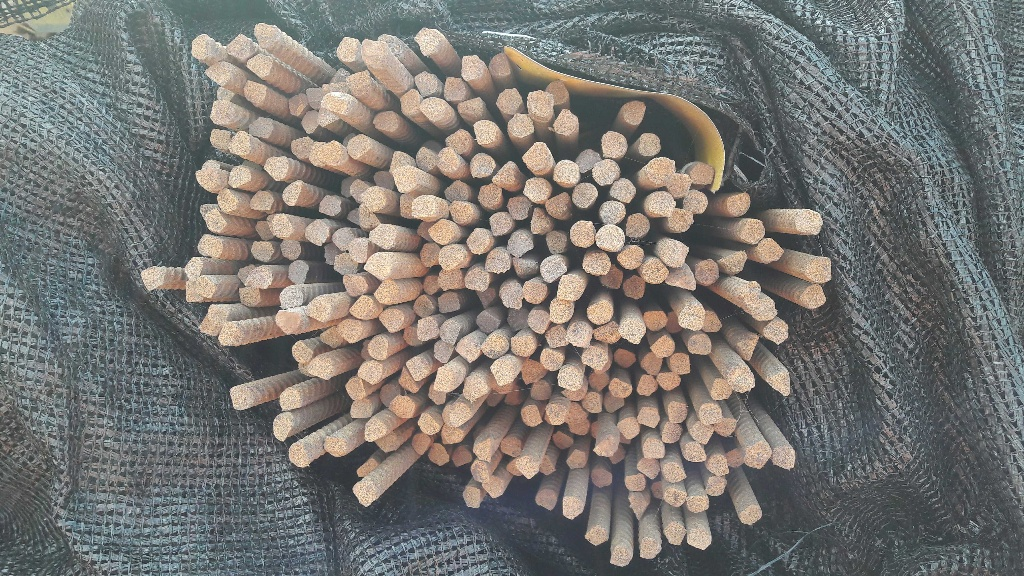dipstick: (642, 157, 675, 187), (521, 141, 551, 173), (792, 208, 824, 238), (657, 239, 690, 268), (525, 90, 555, 120), (746, 294, 778, 322), (796, 284, 829, 310), (666, 265, 697, 292), (359, 39, 387, 68), (621, 99, 649, 128), (609, 176, 637, 205), (497, 281, 525, 310), (596, 224, 625, 252), (489, 356, 518, 384), (755, 237, 784, 265), (746, 439, 773, 469), (254, 22, 280, 53), (204, 61, 236, 86), (599, 131, 627, 159), (738, 216, 766, 244), (728, 365, 756, 393), (226, 34, 255, 61), (506, 112, 535, 139), (645, 193, 675, 219), (680, 303, 706, 333), (267, 211, 294, 239), (412, 69, 440, 96), (274, 309, 301, 337), (305, 296, 332, 324), (463, 375, 490, 403), (582, 249, 610, 276), (547, 296, 574, 324), (808, 256, 835, 284), (570, 220, 596, 249), (764, 318, 790, 347), (193, 168, 225, 191), (552, 109, 579, 136), (593, 159, 620, 186), (694, 259, 721, 286), (539, 254, 567, 280), (642, 257, 668, 285), (555, 273, 581, 301), (245, 54, 274, 79), (436, 245, 465, 270), (718, 250, 748, 274), (228, 384, 254, 411), (473, 120, 500, 146), (638, 130, 664, 157), (600, 200, 627, 226), (196, 234, 224, 259), (415, 27, 440, 55), (389, 168, 417, 193), (367, 225, 395, 250), (364, 254, 392, 279), (335, 318, 363, 343), (307, 355, 335, 380), (444, 129, 472, 154), (449, 200, 474, 228), (209, 100, 238, 124), (560, 378, 590, 401), (459, 55, 485, 81), (552, 160, 578, 186), (575, 148, 601, 174), (625, 213, 651, 239), (356, 203, 381, 230), (302, 219, 327, 246), (496, 87, 521, 114), (469, 153, 496, 178), (689, 162, 716, 187), (618, 319, 645, 344), (555, 365, 582, 390), (767, 369, 792, 396), (771, 445, 796, 472), (626, 490, 649, 519), (273, 412, 294, 443), (345, 72, 371, 97), (335, 37, 360, 63), (349, 295, 375, 320), (378, 308, 403, 334), (477, 183, 503, 208), (523, 177, 549, 202), (464, 266, 489, 292), (598, 264, 623, 290), (566, 322, 591, 348), (242, 78, 266, 105), (219, 322, 243, 349), (360, 187, 387, 211), (545, 192, 569, 219), (667, 172, 691, 199), (682, 190, 709, 214), (687, 524, 711, 551), (725, 193, 752, 217), (321, 91, 349, 114), (547, 78, 570, 106), (666, 208, 694, 231), (586, 302, 614, 325), (592, 321, 620, 344), (411, 196, 440, 218), (264, 157, 289, 182), (485, 249, 510, 274), (508, 232, 533, 257), (514, 256, 539, 281), (208, 128, 232, 154), (342, 271, 366, 297), (357, 361, 383, 385), (372, 280, 398, 304), (466, 229, 490, 255), (482, 332, 508, 356), (456, 336, 480, 362), (405, 355, 429, 381), (521, 359, 547, 383), (686, 333, 712, 357), (661, 461, 687, 485), (229, 131, 252, 158), (138, 265, 161, 292), (443, 77, 470, 100), (437, 148, 460, 175), (618, 246, 645, 269), (737, 333, 758, 362), (227, 166, 252, 190), (506, 197, 531, 221), (544, 324, 568, 349), (665, 398, 689, 423), (660, 419, 684, 444), (584, 525, 608, 550), (248, 190, 274, 213), (420, 97, 446, 120), (277, 388, 303, 411), (458, 97, 484, 120), (443, 179, 469, 202), (438, 268, 464, 291), (216, 187, 238, 214), (529, 307, 551, 334), (289, 441, 310, 469), (249, 116, 273, 140), (493, 162, 517, 186), (621, 275, 645, 299), (510, 334, 534, 358), (663, 522, 687, 546), (323, 140, 346, 165), (346, 238, 369, 263), (322, 434, 345, 459), (489, 52, 512, 77), (429, 220, 452, 245), (573, 183, 598, 206), (489, 213, 514, 236), (434, 368, 457, 393), (538, 348, 563, 371), (442, 404, 467, 427), (561, 495, 584, 520), (641, 437, 666, 460), (636, 456, 661, 479), (609, 546, 634, 569), (691, 419, 714, 444), (190, 34, 212, 60), (278, 285, 304, 307), (351, 481, 373, 507), (411, 294, 437, 316), (437, 292, 463, 314), (580, 346, 606, 368), (389, 397, 415, 419), (280, 180, 301, 207), (414, 147, 438, 170), (344, 376, 367, 400), (377, 383, 400, 407), (419, 243, 442, 267), (507, 305, 530, 329), (644, 309, 667, 333), (638, 536, 661, 560), (286, 259, 308, 284), (373, 432, 398, 454), (427, 443, 449, 468), (636, 374, 658, 399), (664, 485, 686, 510), (289, 341, 315, 362), (204, 209, 227, 232), (250, 240, 273, 263), (317, 194, 340, 217), (416, 318, 439, 341), (668, 352, 691, 375), (700, 311, 723, 334), (706, 453, 729, 476), (248, 267, 272, 289), (379, 32, 401, 56), (401, 325, 423, 349), (522, 279, 546, 301), (475, 309, 499, 331), (609, 376, 633, 398), (416, 412, 440, 434), (683, 443, 707, 465), (399, 88, 420, 113), (348, 398, 373, 419), (369, 336, 390, 361), (651, 334, 676, 355), (739, 505, 764, 526), (388, 149, 415, 168), (286, 92, 308, 115), (346, 134, 368, 157), (362, 419, 384, 442), (357, 455, 379, 478), (617, 416, 639, 439), (640, 352, 663, 374), (687, 493, 710, 515), (711, 377, 733, 400), (699, 401, 721, 424), (371, 110, 395, 131), (320, 327, 344, 348), (531, 206, 549, 234), (529, 380, 553, 401), (594, 435, 618, 456), (398, 193, 418, 218), (439, 320, 458, 346), (334, 253, 356, 275), (544, 231, 566, 253), (450, 446, 472, 468), (482, 477, 504, 499), (207, 303, 228, 326), (236, 285, 259, 306), (279, 239, 302, 260), (291, 136, 312, 159), (434, 340, 455, 363), (520, 406, 543, 427), (545, 404, 568, 425), (472, 438, 493, 461), (534, 489, 555, 512), (638, 406, 659, 429), (371, 168, 395, 188), (517, 456, 537, 480), (624, 471, 648, 491), (299, 110, 318, 135), (331, 227, 352, 249), (614, 348, 636, 369), (587, 370, 609, 391), (604, 391, 625, 413), (463, 486, 484, 508), (714, 417, 736, 438), (199, 315, 219, 338), (234, 261, 254, 284), (255, 218, 275, 241), (499, 437, 522, 457), (470, 461, 490, 484), (592, 467, 612, 490), (705, 474, 725, 497), (399, 367, 417, 392), (489, 376, 514, 394), (308, 142, 325, 168), (322, 244, 342, 266), (582, 392, 602, 414), (565, 402, 587, 422), (212, 85, 235, 104), (195, 275, 214, 298), (349, 178, 368, 201), (658, 372, 681, 391), (727, 446, 746, 469), (439, 427, 463, 445), (184, 278, 201, 303), (410, 434, 430, 455), (552, 431, 574, 450), (305, 87, 323, 110), (317, 108, 337, 128), (427, 384, 447, 404), (566, 450, 586, 470), (474, 287, 495, 306), (184, 257, 202, 279), (666, 311, 684, 333), (297, 359, 315, 380), (418, 138, 440, 155), (567, 420, 590, 436), (337, 176, 355, 196), (416, 220, 434, 240), (538, 456, 556, 476), (422, 274, 439, 295), (609, 445, 626, 465), (331, 67, 349, 85), (504, 389, 521, 408), (347, 207, 362, 228), (358, 340, 373, 361), (649, 480, 664, 501), (200, 159, 222, 173), (485, 392, 505, 407), (505, 459, 521, 477), (340, 131, 355, 149), (199, 202, 211, 218)
